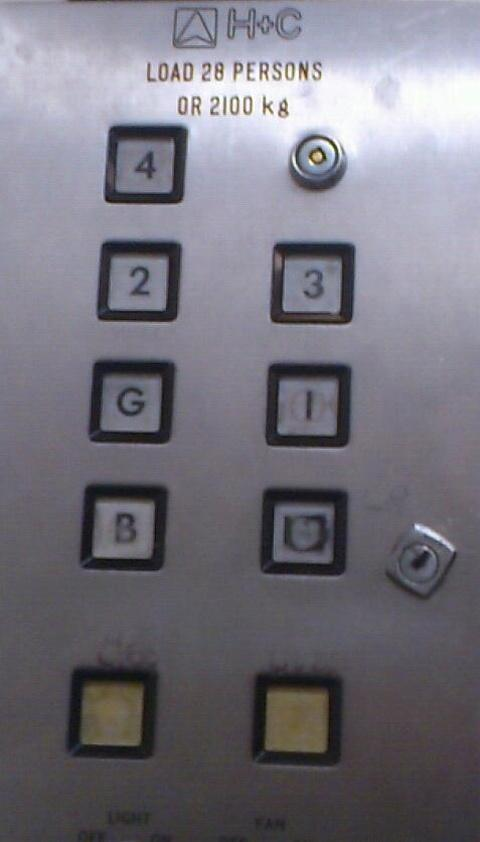1: (261, 359, 353, 450)
2: (93, 235, 185, 326)
3: (269, 238, 357, 326)
4: (101, 119, 189, 207)
B: (76, 480, 172, 575)
G: (85, 357, 175, 443)
blur: (257, 482, 347, 579)
keyhole: (380, 520, 458, 602), (286, 130, 353, 194)
unknown: (251, 669, 343, 771), (63, 665, 158, 761)
